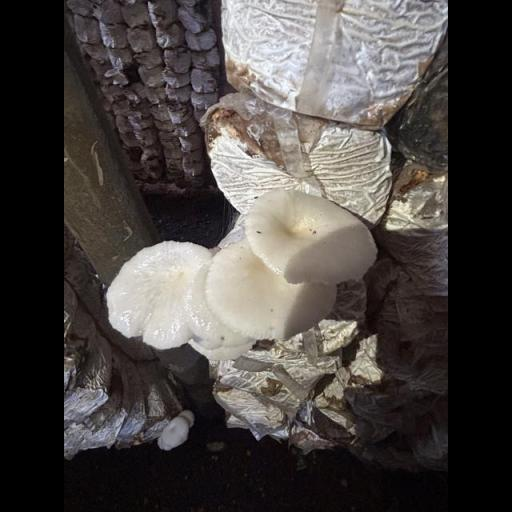White Oyster Mushroom: (102, 181, 378, 355)
